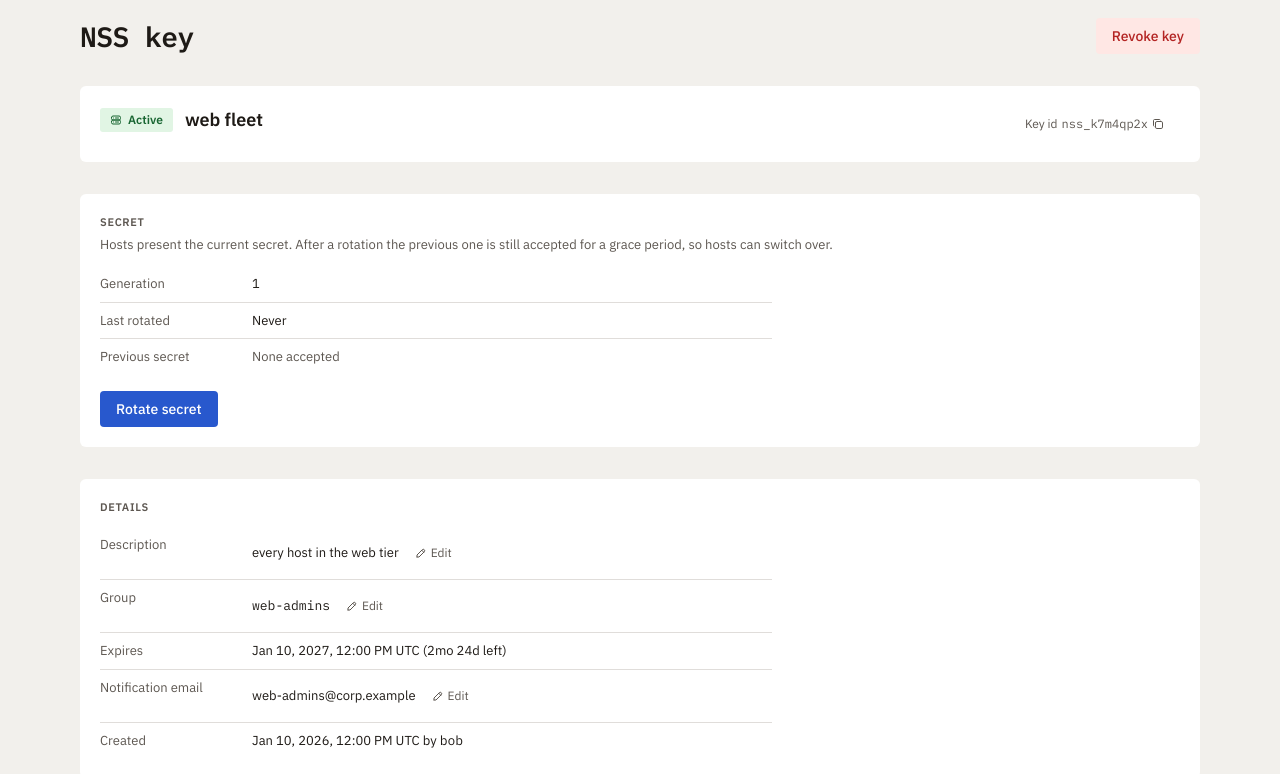
Test: NSS key detail › rotate › should say why Rotate secret is gone when a new secret is on screen
expect the element with test id "nss-key-identity" is shown: met, box top-left (80, 86), bottom-right (1200, 162)
Click the button with test id "nss-key-rotate" at (159, 408), box top-left (100, 390), bottom-right (218, 426)
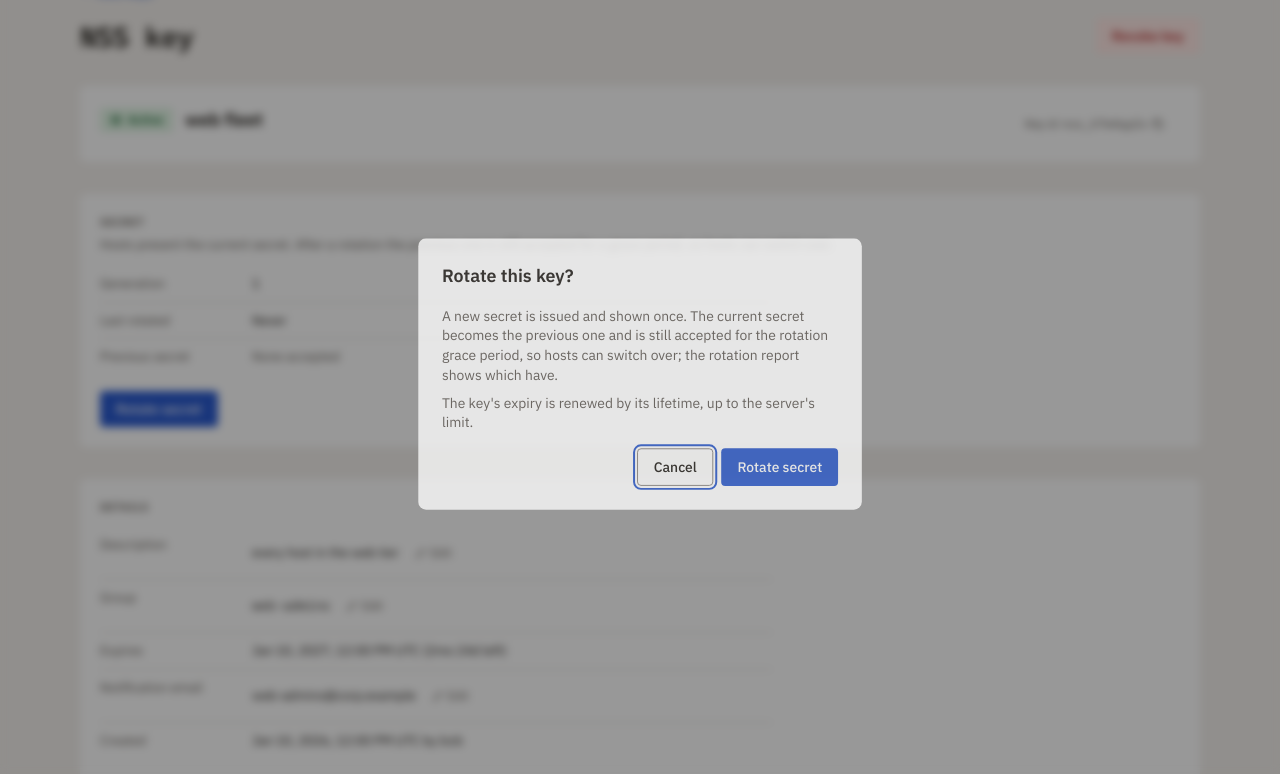
Click the button with test id "nss-key-rotate-confirm" at (781, 468), box top-left (722, 449), bottom-right (839, 486)
(page scrolled)
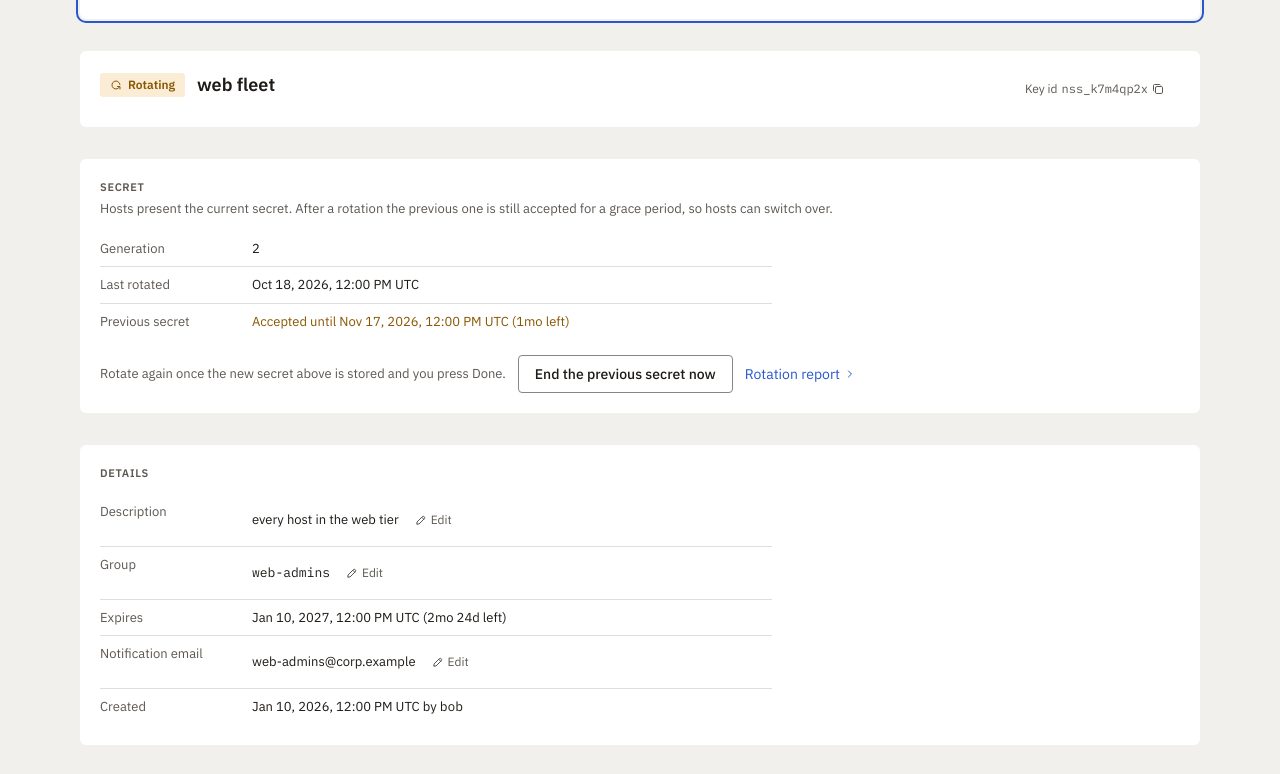
expect the text with test id "nss-key-rotate-held" reads "Rotate again once the new secret above is stored and you press Done.": met, box top-left (100, 365), bottom-right (506, 382)
